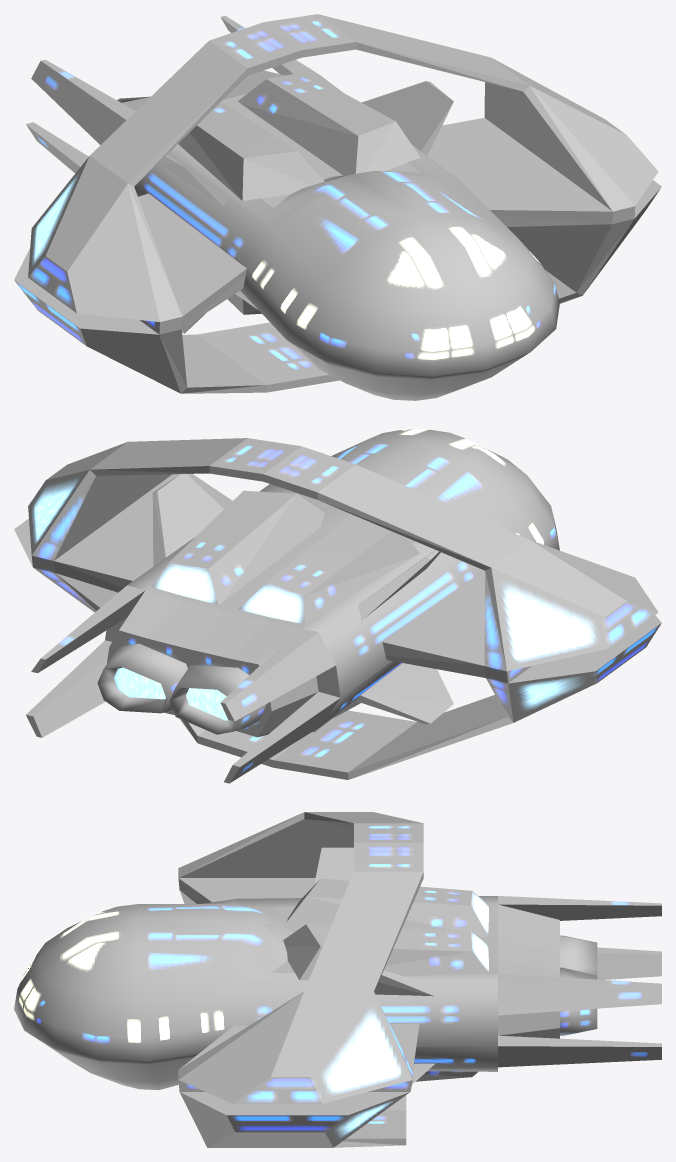
Rendered from astraLightCruiser.FBX.
3 views of the same model, one above another, from view 1: azimuth 30°, elevation 25°; view 2: azimuth 150°, elevation 25°; view 3: azimuth 270°, elevation 25° (orthographic). The views are drawn at different scales.
Visible parts, largest first — view 1: AstraLightCruiser01; view 2: AstraLightCruiser01; view 3: AstraLightCruiser01.
Boxes of the visible parts, x1,y1,x2,y2 form: AstraLightCruiser01: (14,14,661,400); AstraLightCruiser01: (14,429,661,783); AstraLightCruiser01: (14,812,661,1147).
Size of the model in its own units: 0.66 by 0.6968 by 0.3255.
